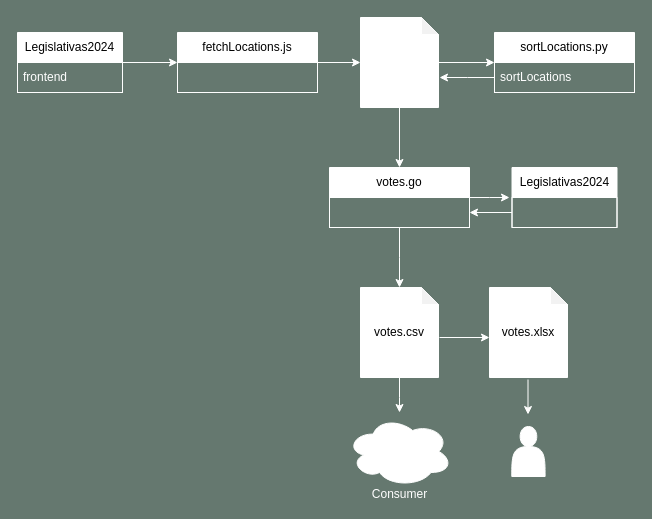
Some shapes in this 652 by 519 pixel diagram are drawn without their labels. The centre of each missing label's shape, as x and y in pixels:
"api" goes at point 564,212.
"getLocationIds" goes at point 247,77.
"getVotesDataByLocation" goes at point 399,212.
"locations.csv" goes at point 399,62.
"User" goes at point 528,451.
